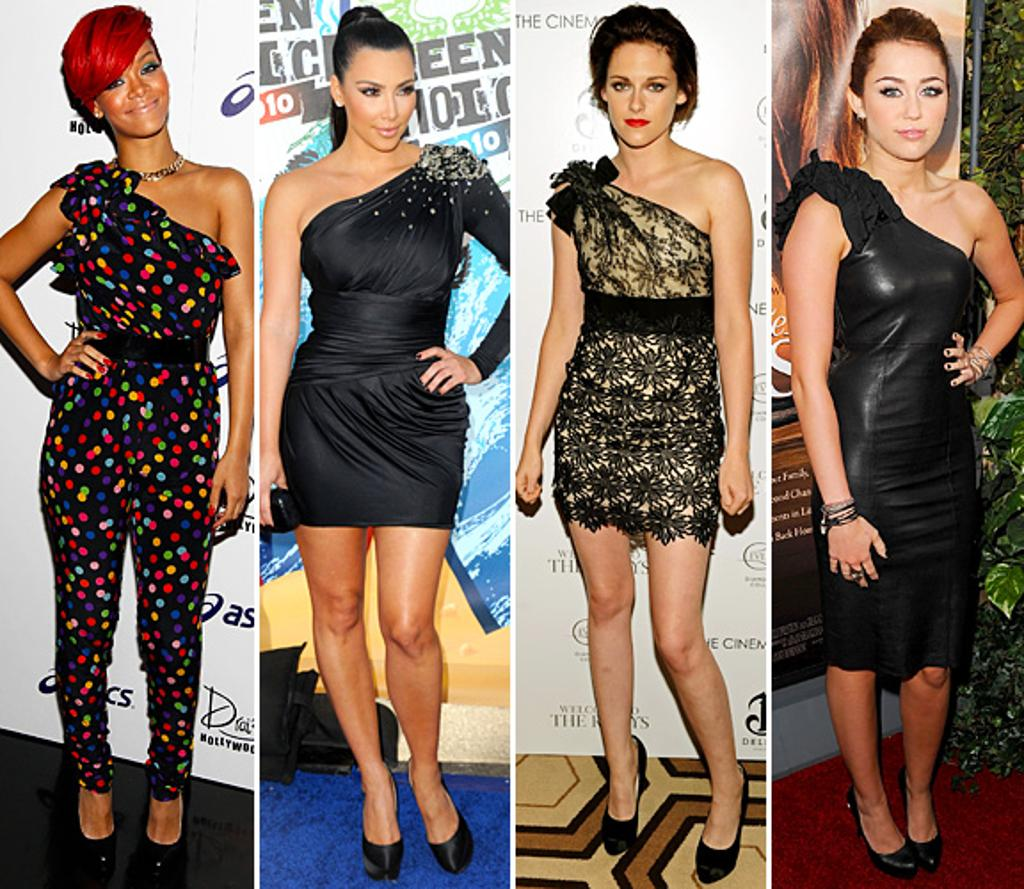face: (866, 40, 946, 158), (96, 28, 168, 134), (606, 38, 674, 144), (350, 48, 416, 148)
